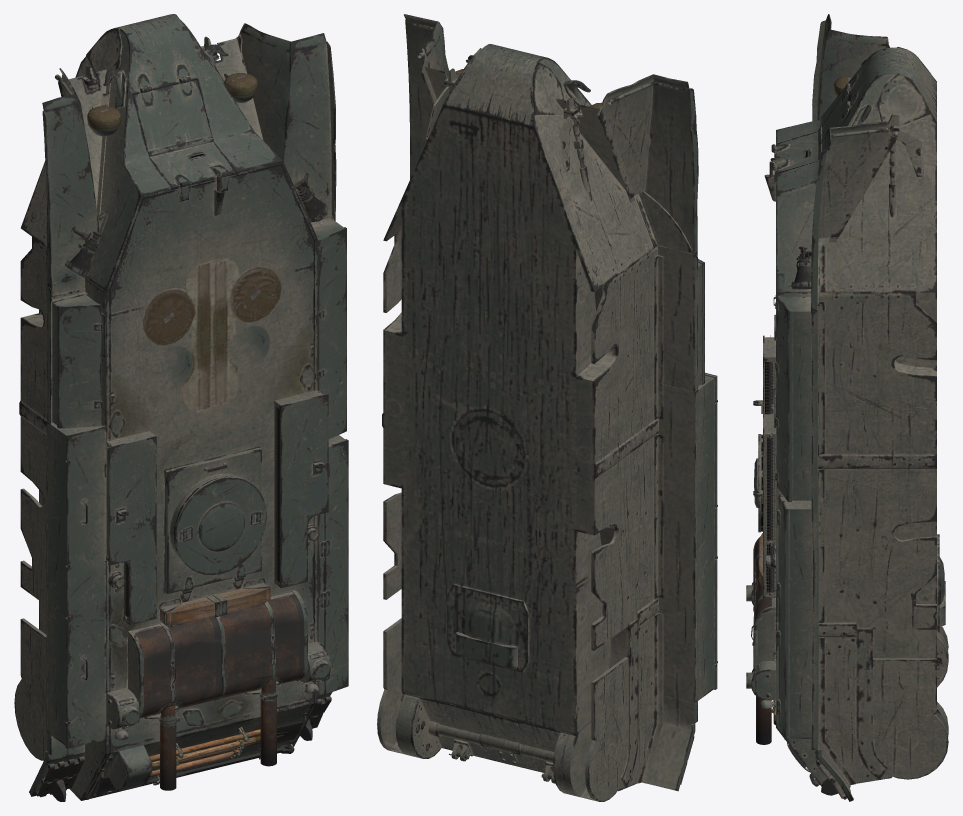
The model's file is Hull.glb.
The picture shows the model from 3 angles, left to right: view 1: azimuth 30°, elevation 25°; view 2: azimuth 150°, elevation 25°; view 3: azimuth 270°, elevation 25°; orthographic projection. The views are drawn at different scales.
Parts seen in each view (by area): view 1: set_0_group_0; view 2: set_0_group_0; view 3: set_0_group_0.
Boxes of the visible parts, <box> form: set_0_group_0: <box>14,14,348,801</box>; set_0_group_0: <box>377,14,717,801</box>; set_0_group_0: <box>746,14,948,801</box>.
Bounding box in the file's own units: 2.16 × 5.19 × 1.4.
Materials: 1 (1 with a texture image).
